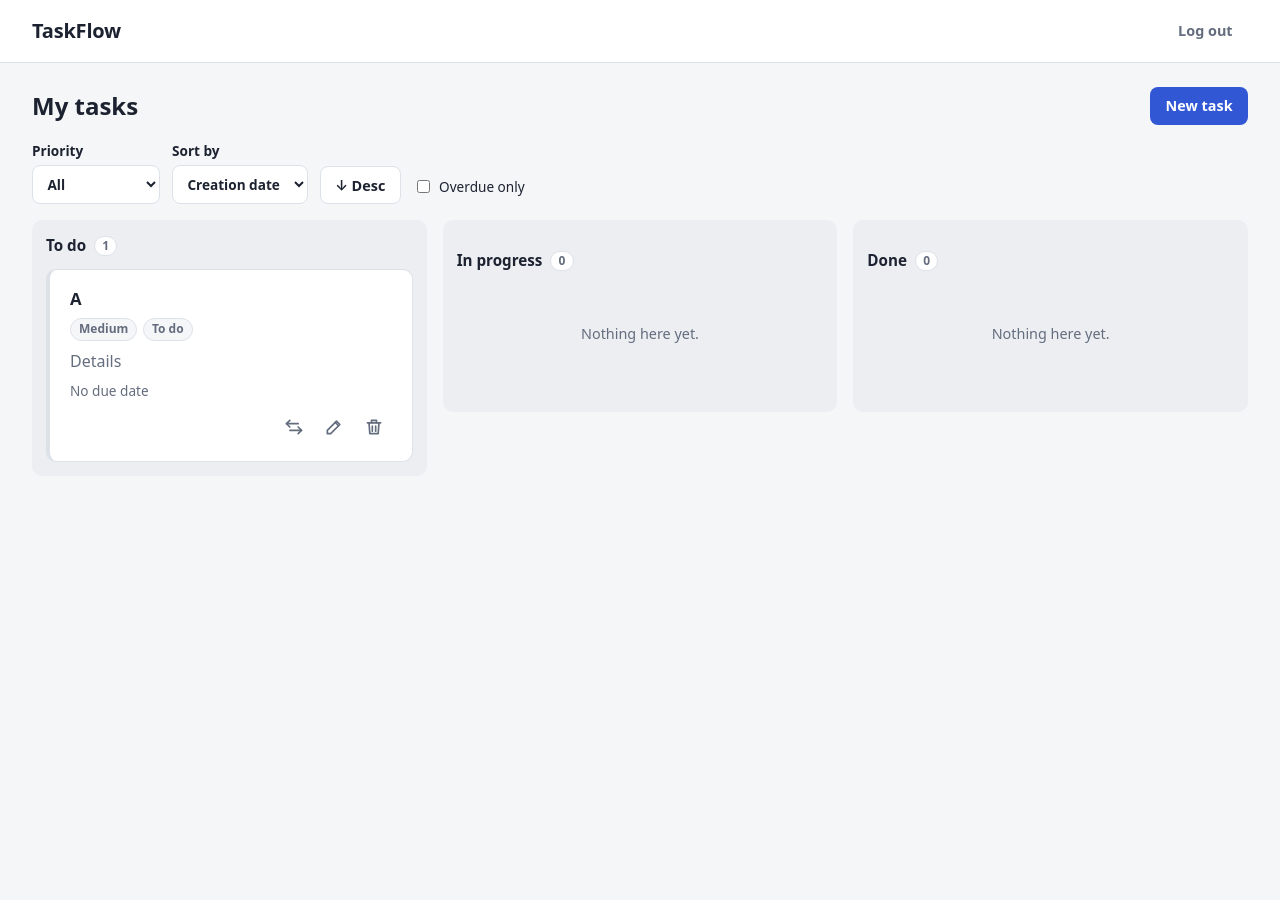
it: TasksPage › edits a task in the same dialog, filled in, and Cancel closes it
This screenshot has width=1280, height=900.
expect the heading "A" is shown: met, box [70,287,82,310]
Click the button named "Edit": [334, 427] box [316,409,352,445]
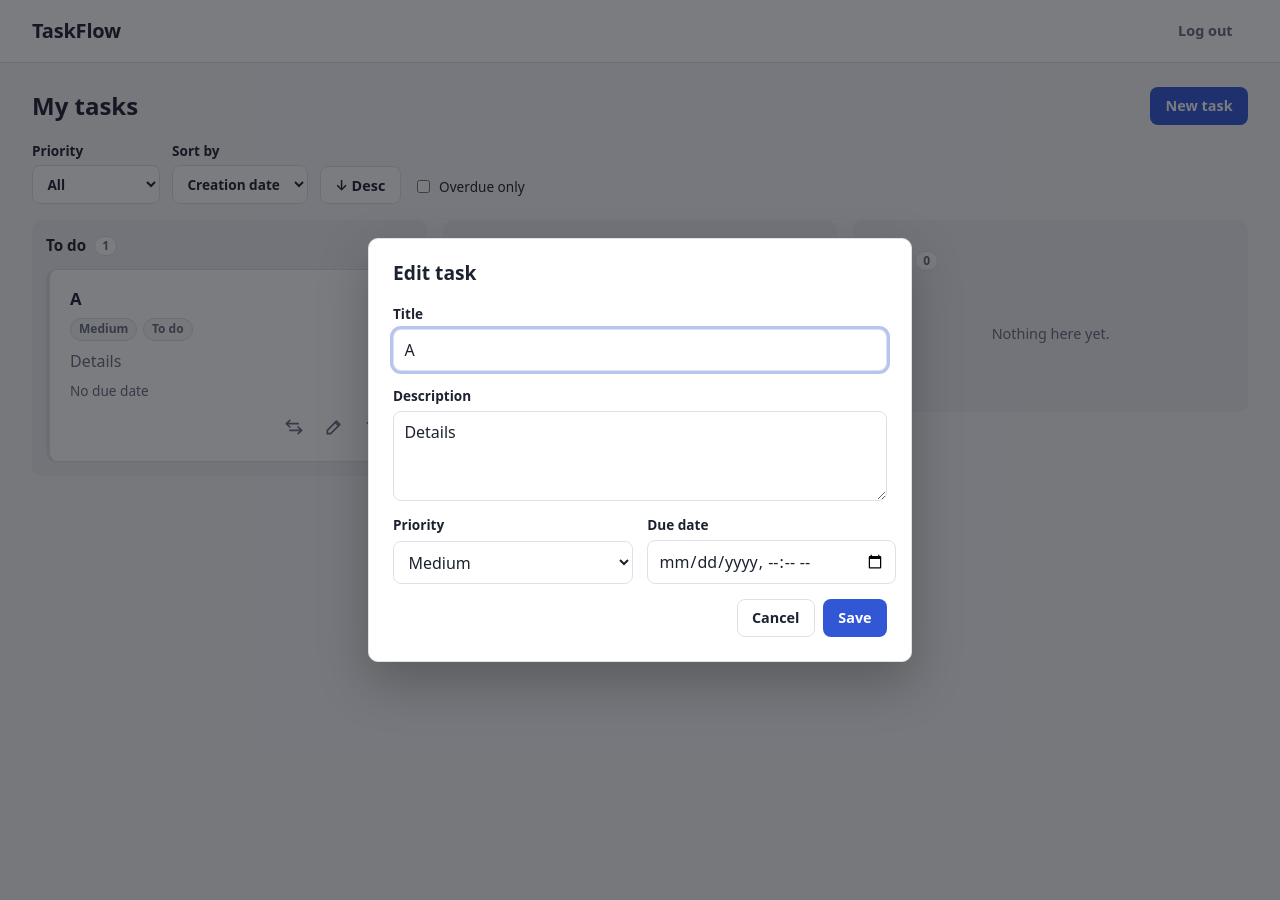
expect the field labelled "Title" holds "A": met, box [393,329,887,371]
expect the text box labelled "Description" holds "Details": met, box [393,411,887,501]
Click the button "Cancel": [776, 618] box [736,599,815,637]
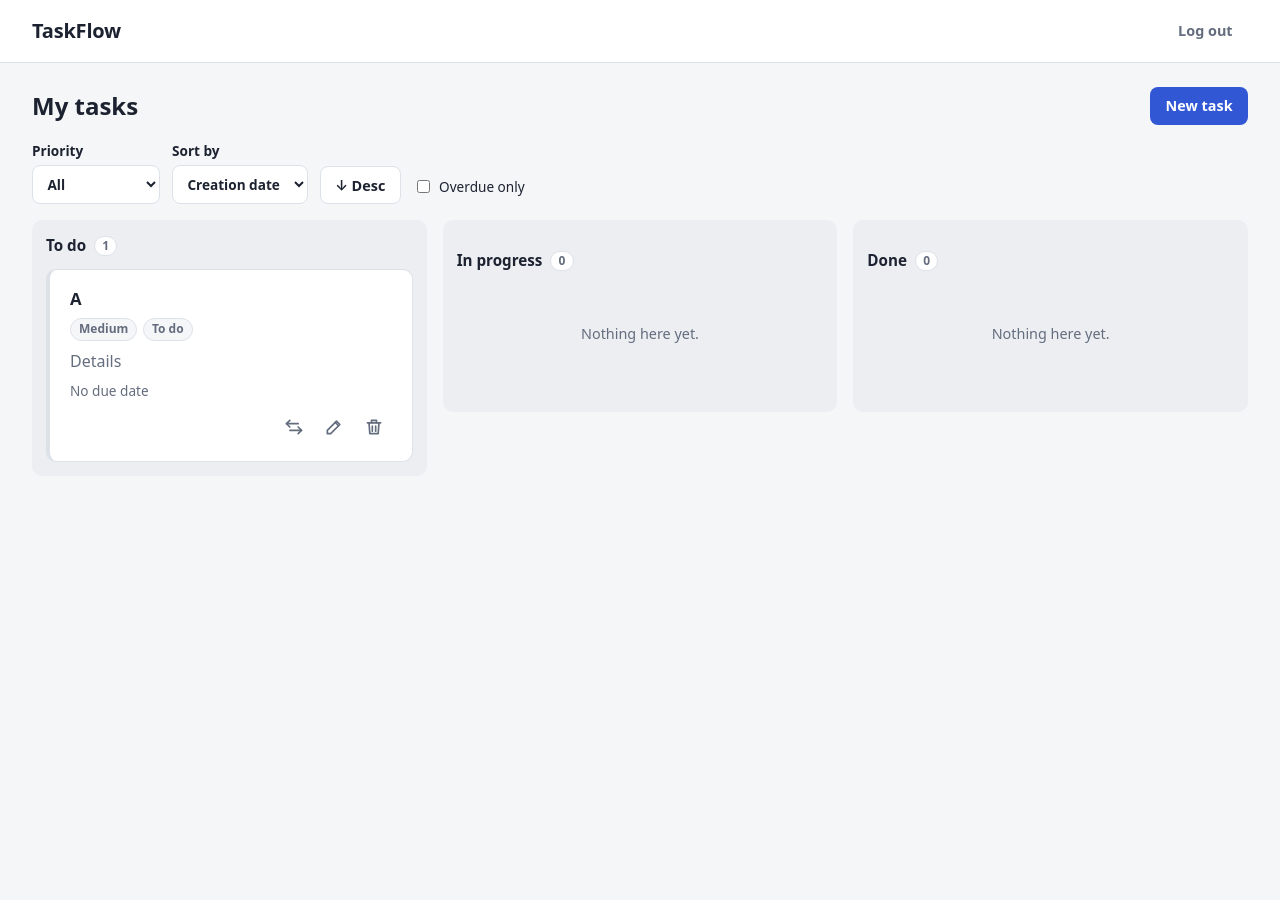
expect the dialog is gone: met
